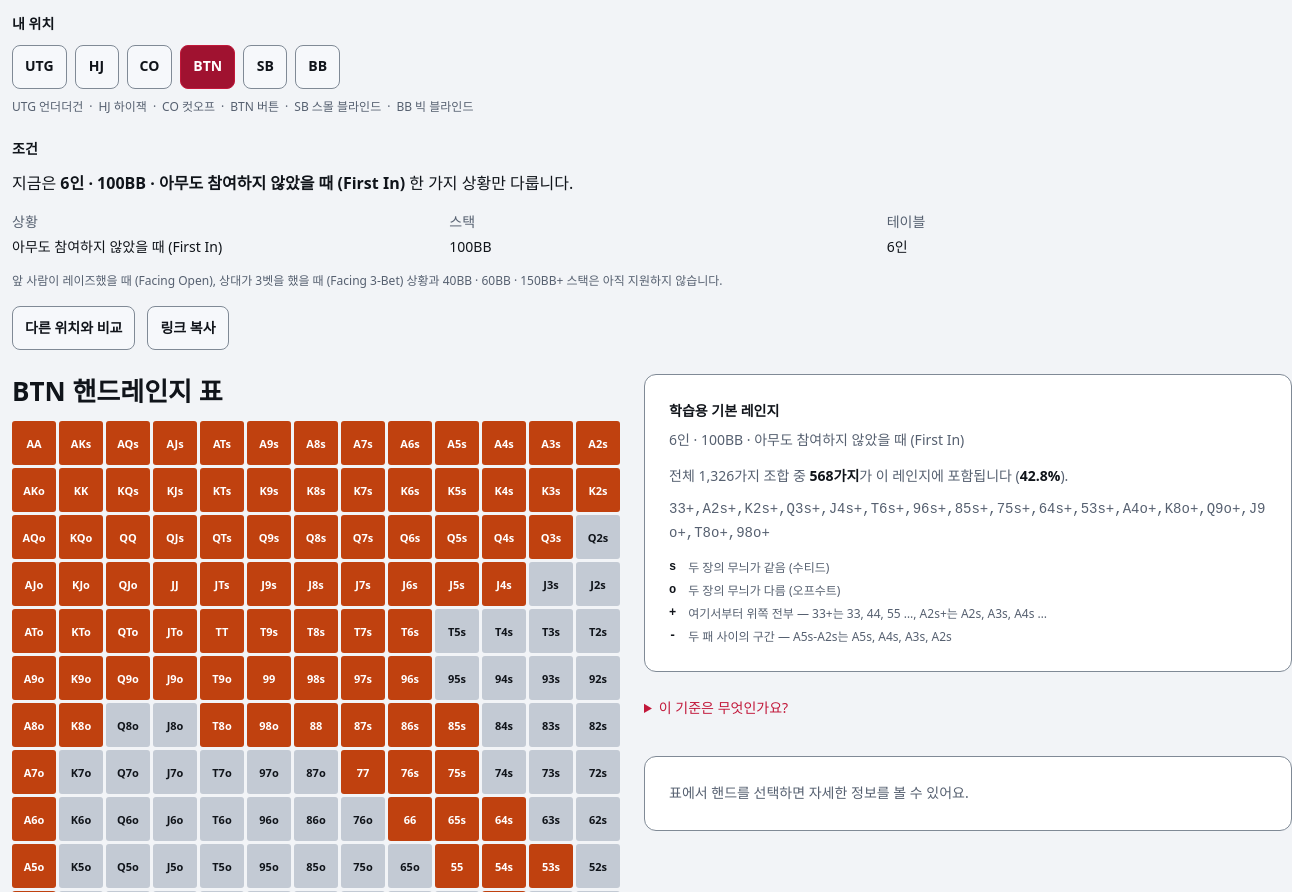
Scenario: RangeExplorer › selecting BB is honest, not a fabricated range
Expected: the button with aria-label "버튼(BTN) 자리" is shown, [180,44,235,88]
Click the button "BB" at (318, 66), box [295,44,340,88]
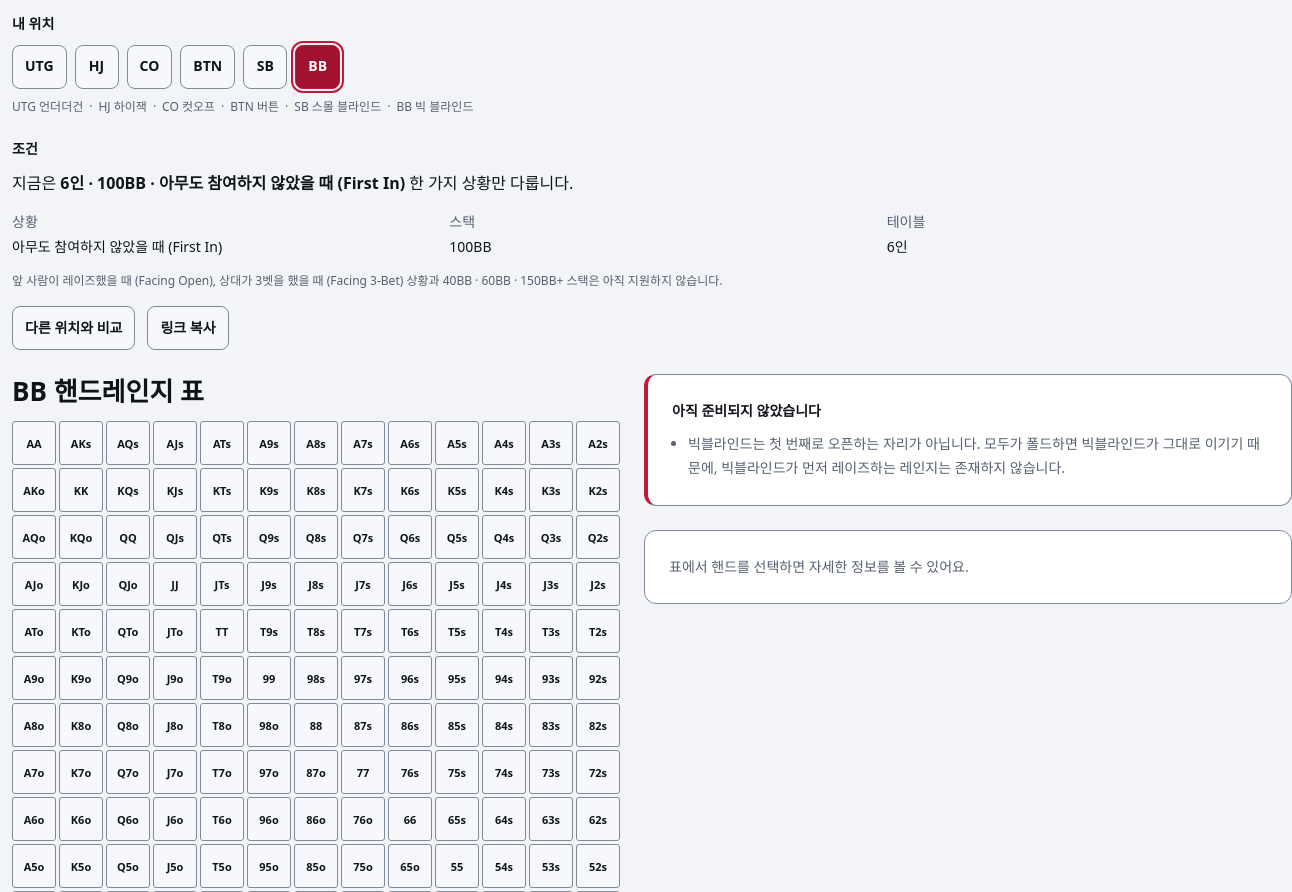
Expected: the button "AA" is shown, [12,422,56,466]
Expected: the list item "빅블라인드는 첫 번째로 오픈하는 자리가 아닙니다" is shown, [688,434,1260,477]
